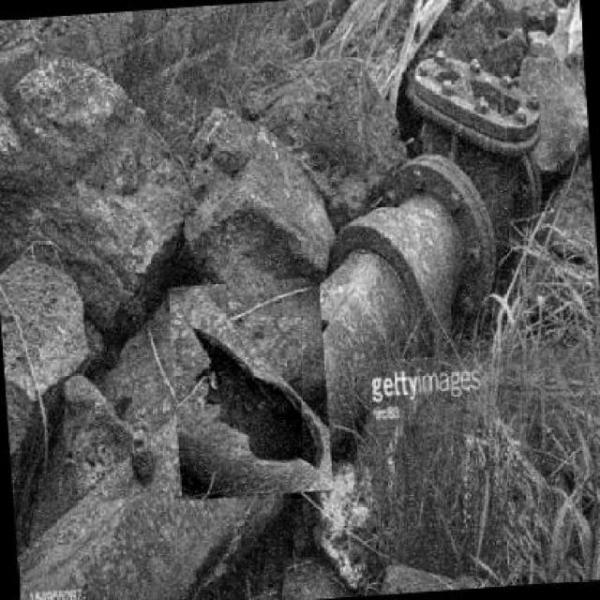water: (176, 326, 301, 498)
